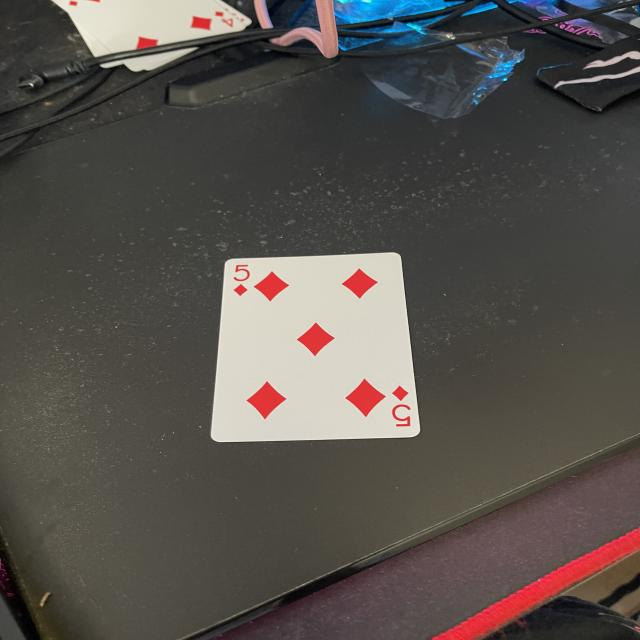5 of diamonds: (212, 253, 419, 440)
